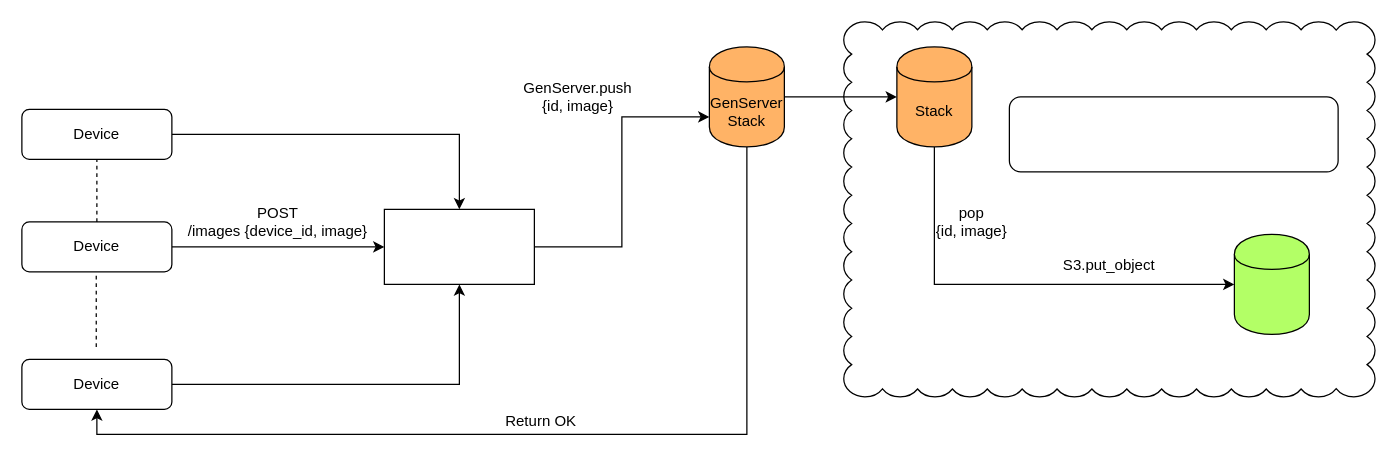
Image size: 1398x466. Some labels were removed from this diagram. Here are the shapes that lost their labels. From the top down, the centre of each, then its label:
pixel 1173 134: Schedule upload of the current stack every X seconds
pixel 458 246: UploadController
pixel 1271 283: S3
